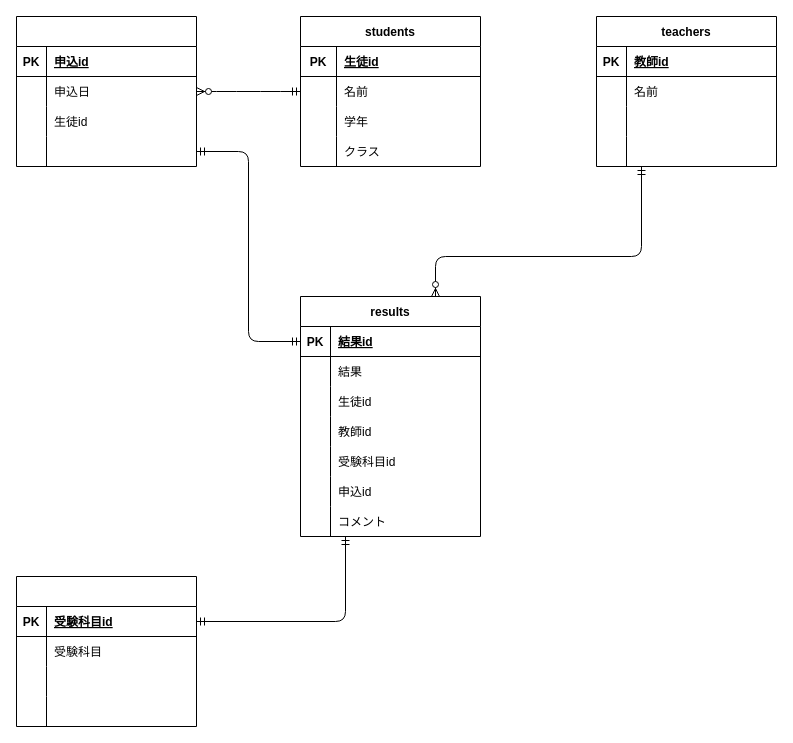
This 793x743 diagram has some shape labels left out. Each missing label, with the box of its shape:
applications: (16, 16, 196, 166)
subjects: (16, 576, 196, 726)
